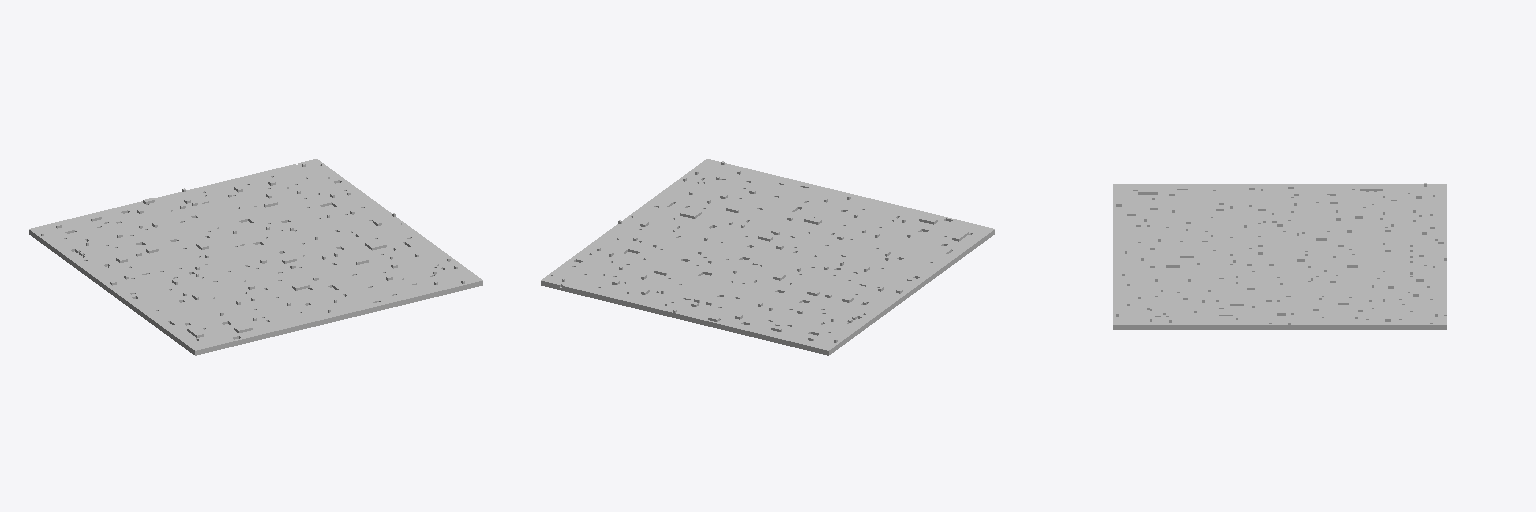
File: floor.obj
The picture shows the model from 3 angles: view 1: azimuth 30°, elevation 25°; view 2: azimuth 150°, elevation 25°; view 3: azimuth 270°, elevation 25°; orthographic projection.
Parts seen in each view (by area): view 1: object 1; view 2: object 1; view 3: object 1.
Boxes of the visible parts, x1=… form: object 1: x1=29, y1=159, x2=482, y2=355; object 1: x1=541, y1=159, x2=994, y2=355; object 1: x1=1113, y1=183, x2=1446, y2=329.
Size of the model in its own units: 12 by 0.3 by 12.